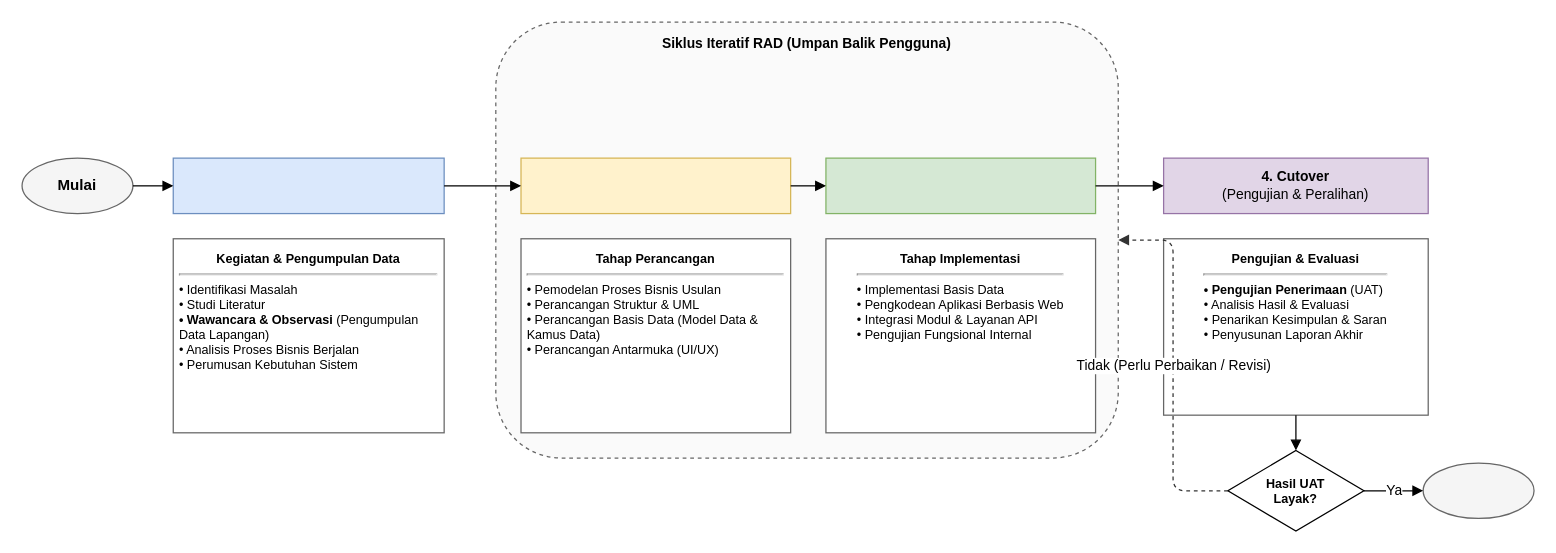
Image size: 1556x553. Some labels were removed from this diagram. The shapes that lost their labels are listed below. From the top down, each one's centre as x and y in pixels, then its label:
the point at 308,185: 1. Requirements Planning (Perencanaan Kebutuhan)
the point at 655,185: 2. User Design (Perancangan Sistem)
the point at 960,185: 3. Construction (Pembangunan Sistem)
the point at 1478,490: Selesai
